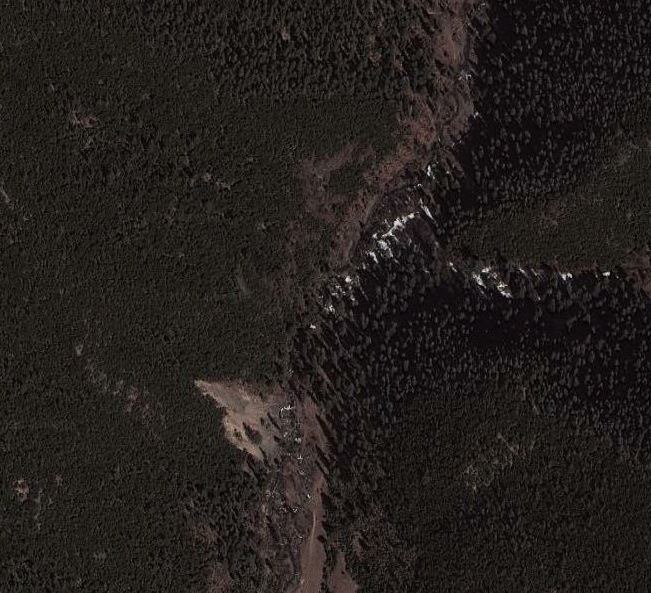slope: (191, 373, 304, 469)
